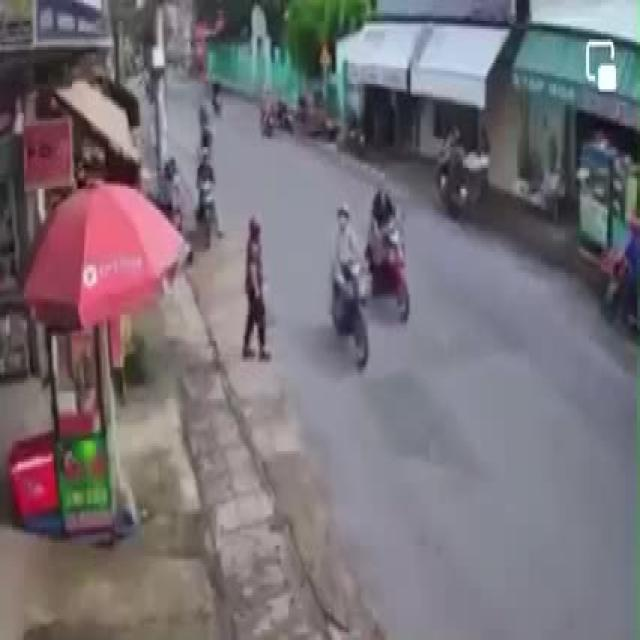normal: (317, 156, 417, 380)
